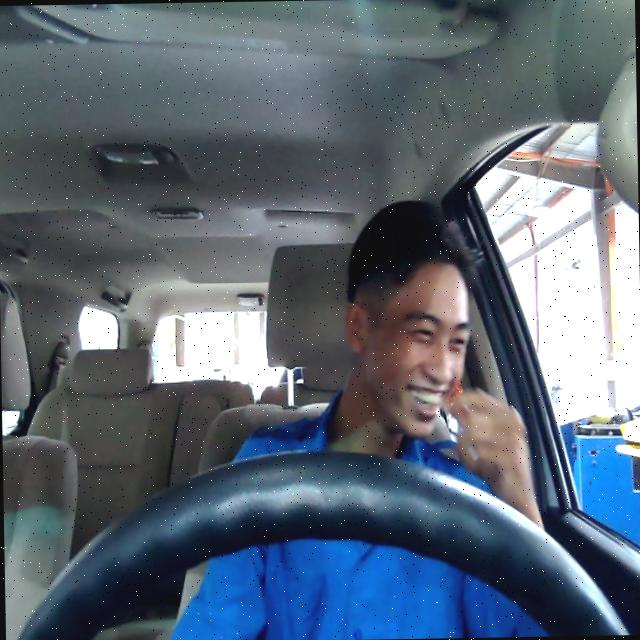focused: (341, 262, 473, 440)
